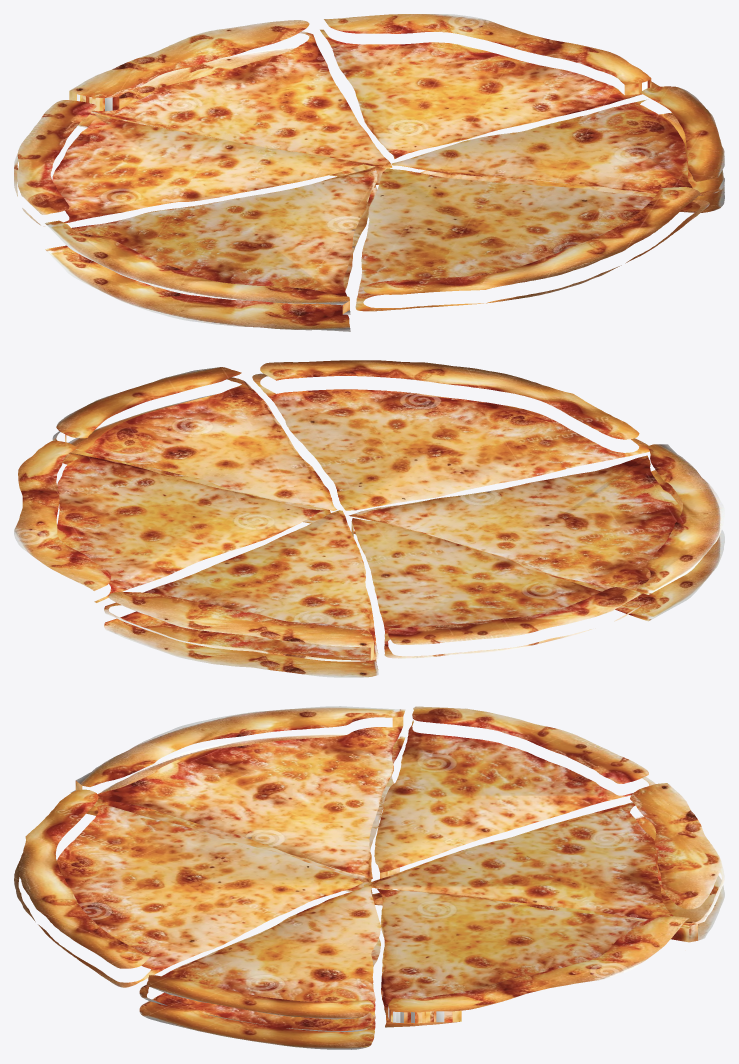
The model's file is margherita_1.glb.
3 views of the same model, one above another, from view 1: azimuth 30°, elevation 25°; view 2: azimuth 150°, elevation 25°; view 3: azimuth 270°, elevation 25° (orthographic). The views are drawn at different scales.
Visible parts, largest first — view 1: Material2.023; view 2: Material2.023; view 3: Material2.023.
Boxes of the visible parts, box(x1,y1,x2,y2) form: Material2.023: box(14, 14, 724, 331); Material2.023: box(14, 360, 724, 677); Material2.023: box(14, 706, 724, 1049).
Size of the model in its own units: 1.24 by 0.0576 by 1.18.
Materials: 1 (1 with a texture image).
